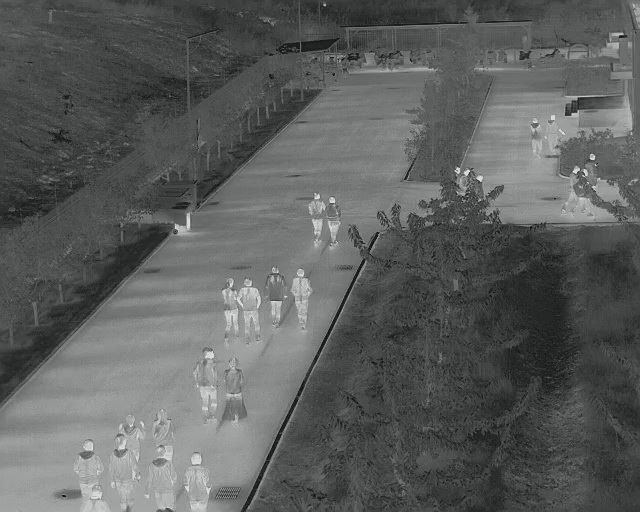person: (109, 432, 140, 507), (194, 345, 221, 424), (146, 446, 178, 508), (221, 356, 247, 431), (183, 451, 214, 512), (263, 263, 290, 330), (238, 275, 262, 346), (75, 433, 105, 486), (219, 276, 241, 343), (291, 266, 313, 331), (149, 407, 182, 447), (307, 190, 326, 244), (325, 195, 343, 247), (562, 164, 580, 216), (544, 111, 561, 155), (529, 116, 544, 159), (585, 152, 600, 189)
